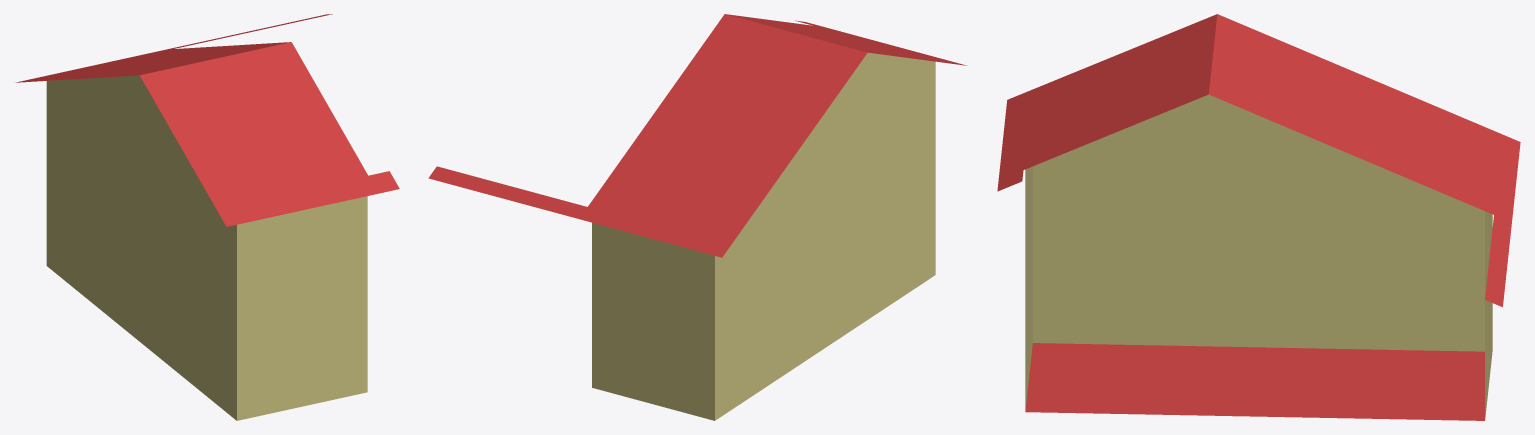
The picture shows the model from 3 angles, left to right: view 1: azimuth 30°, elevation 25°; view 2: azimuth 150°, elevation 25°; view 3: azimuth 270°, elevation 25°; orthographic projection. The views are drawn at different scales.
Bounding box in the file's own units: 11.56 × 14.59 × 9.88.
